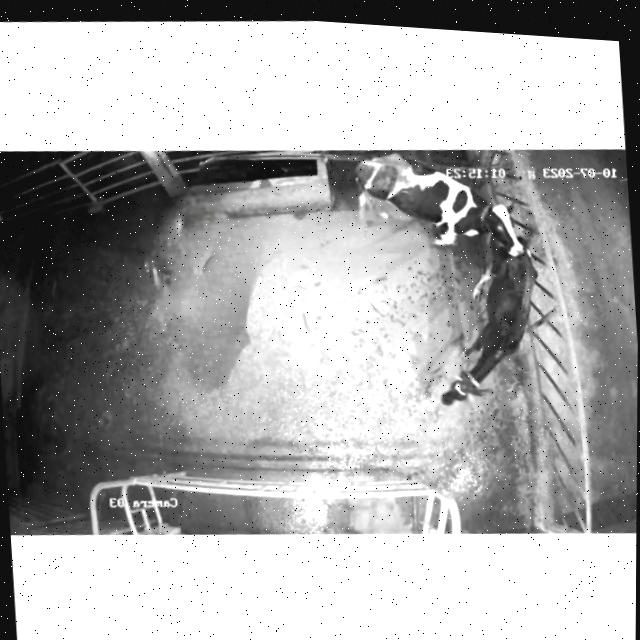propping: (454, 186, 552, 291)
